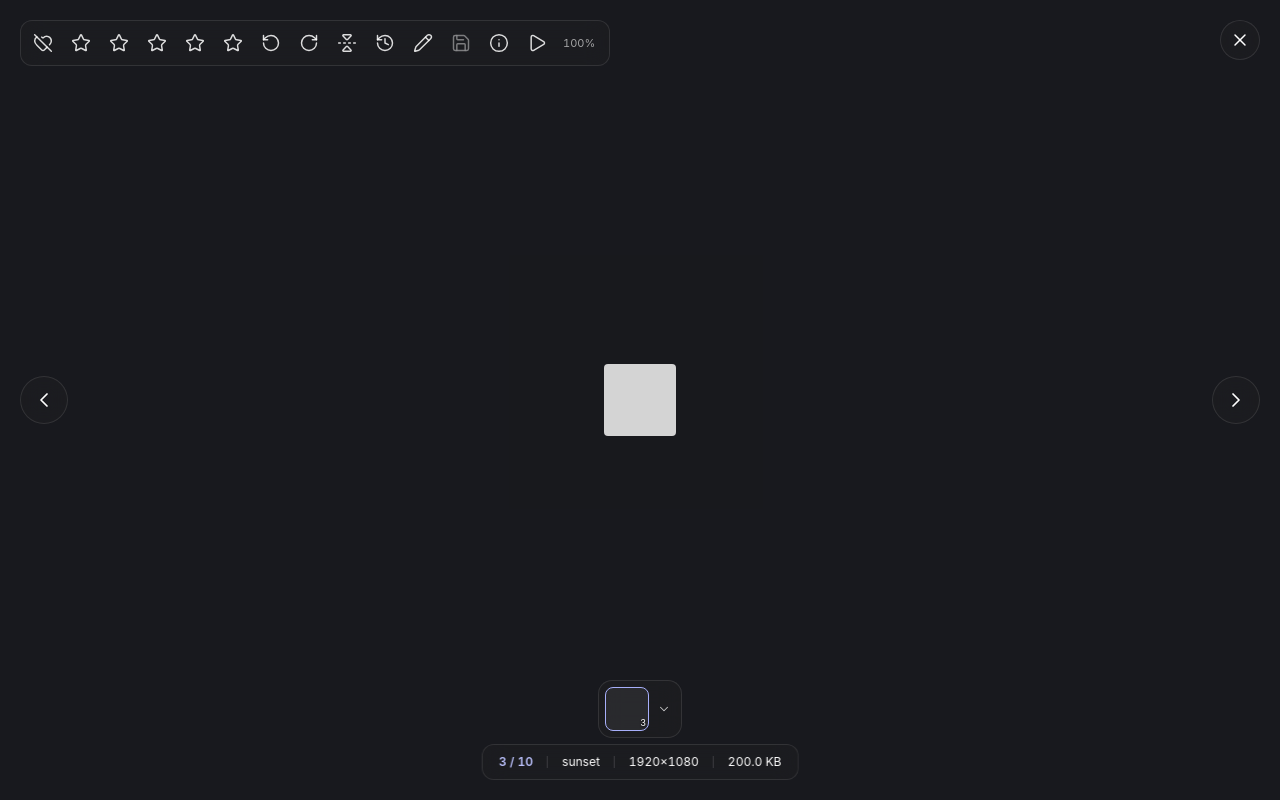
it: ImageViewer 幻灯片放映 › 暂停/恢复：暂停期不翻页，角标变「已暂停 · 5s」，恢复后重计完整间隔
Click the button titled "幻灯片放映".
click(537, 43)  # box [519, 25, 555, 61]
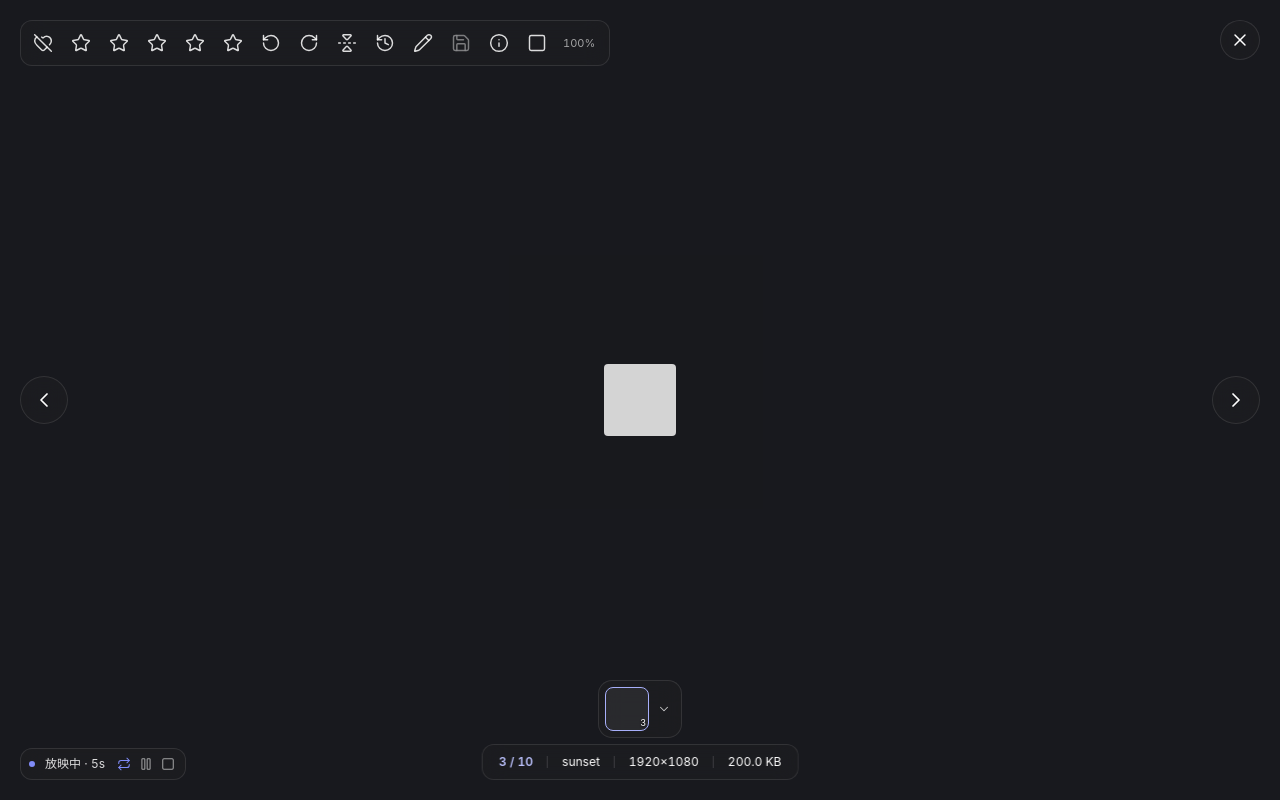
Click the button titled "暂停放映".
click(146, 764)  # box [137, 755, 155, 773]
Wait 20000 ms
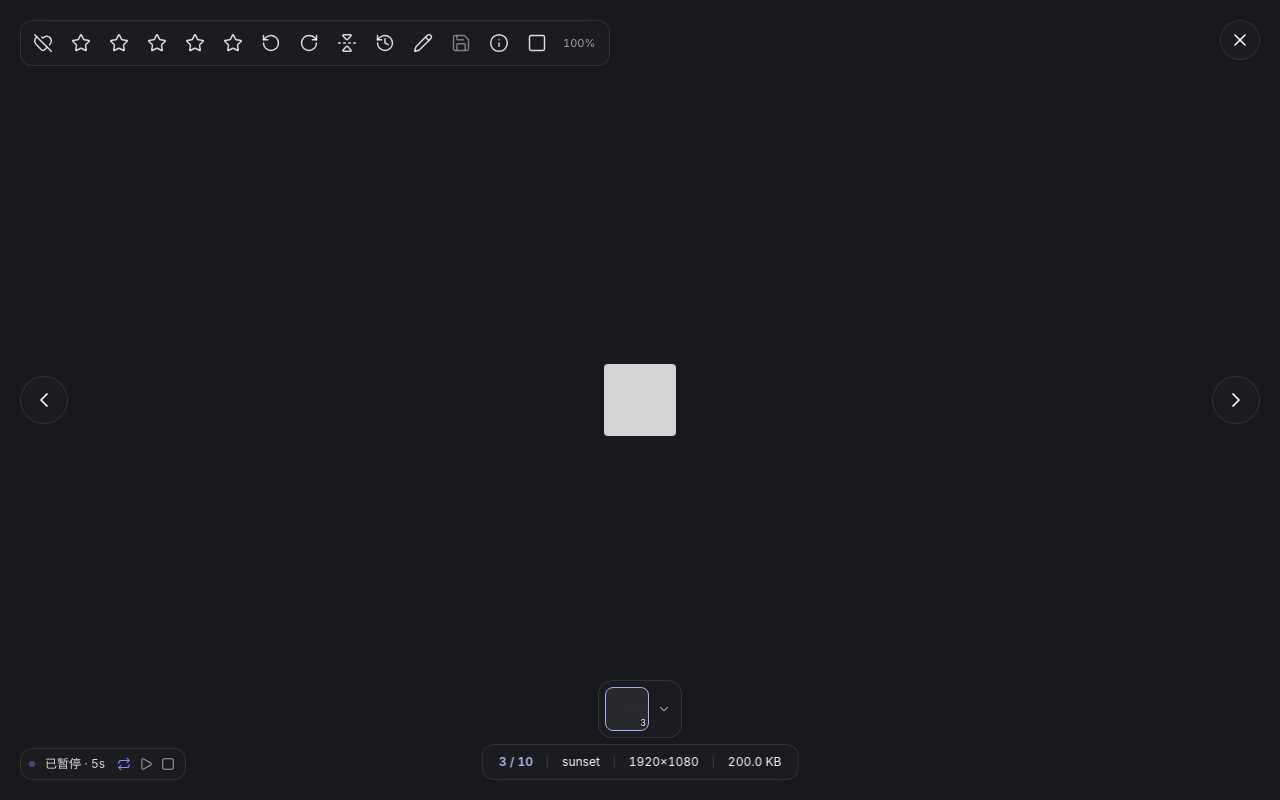
Expected: the button "已暂停 · 5s" is shown, [39, 753, 111, 775]
Click the button titled "继续放映".
click(146, 764)  # box [137, 755, 155, 773]
Wait 5000 ms
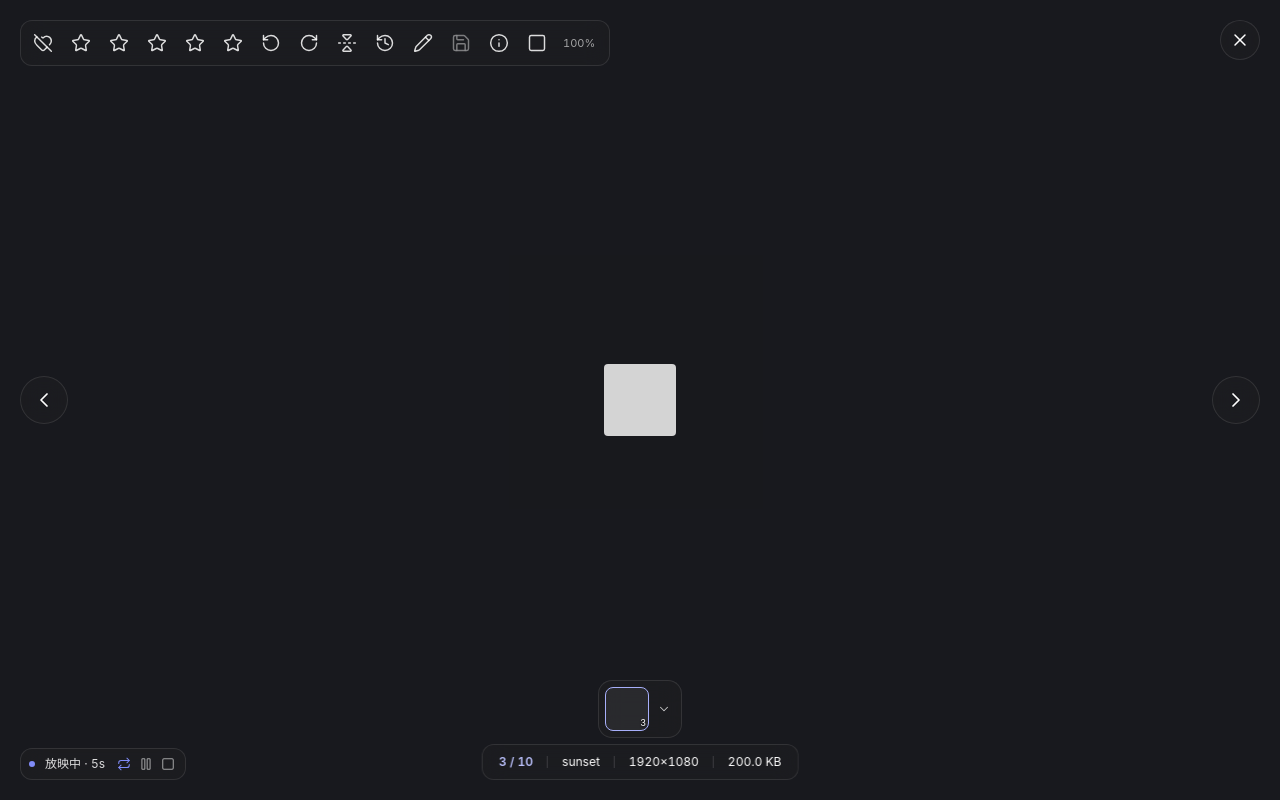
Expected: the button "放映中 · 5s" is shown, [39, 753, 111, 775]
